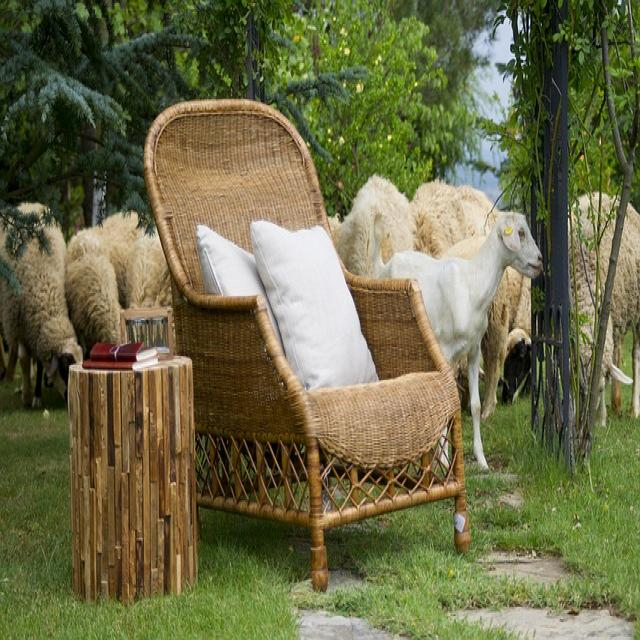goat: (374, 210, 543, 470), (0, 200, 84, 409), (61, 213, 173, 358), (573, 195, 640, 421)
